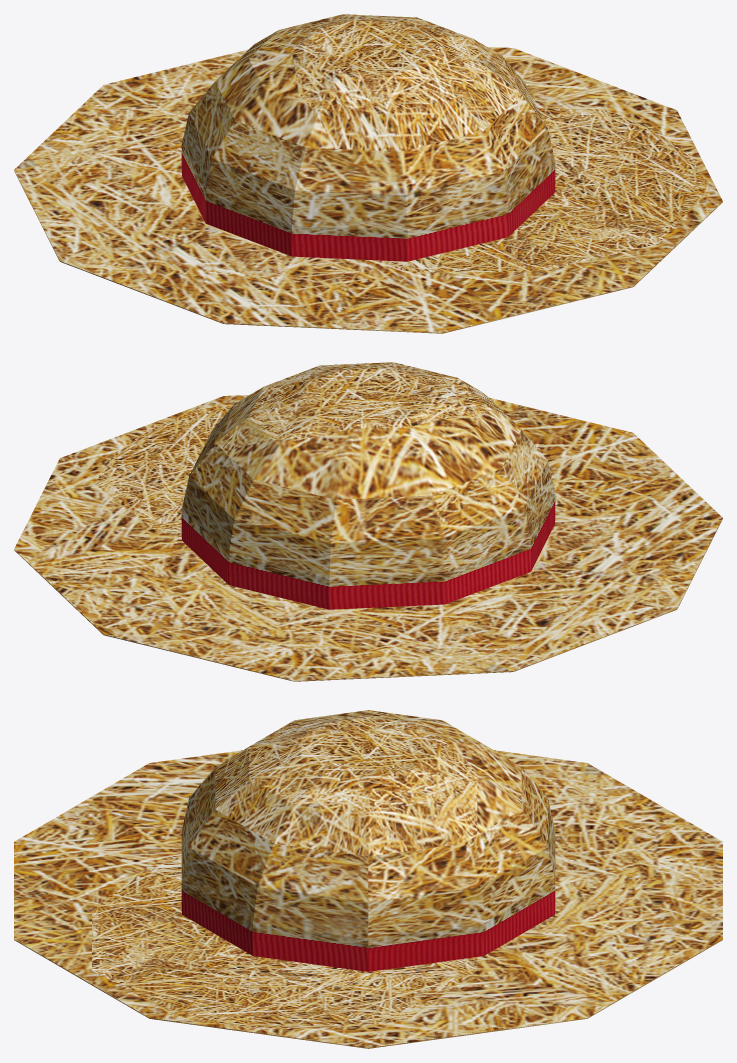
The model's file is StrawHat.fbx.
3 renders of one model, top to bottom at view 1: azimuth 30°, elevation 25°; view 2: azimuth 150°, elevation 25°; view 3: azimuth 270°, elevation 25°, orthographic. The views are drawn at different scales.
Visible parts, largest first — view 1: Cylinder001; view 2: Cylinder001; view 3: Cylinder001.
Boxes of the visible parts, x1=… form: Cylinder001: x1=14, y1=14, x2=722, y2=333; Cylinder001: x1=14, y1=362, x2=722, y2=681; Cylinder001: x1=14, y1=710, x2=722, y2=1048.
Size of the model in its own units: 8 by 1.71 by 7.61.
